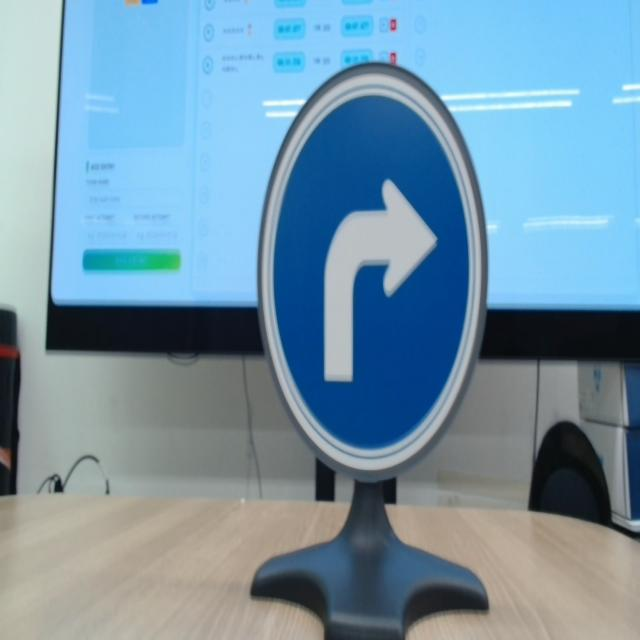right_dierection: (238, 32, 512, 518)
